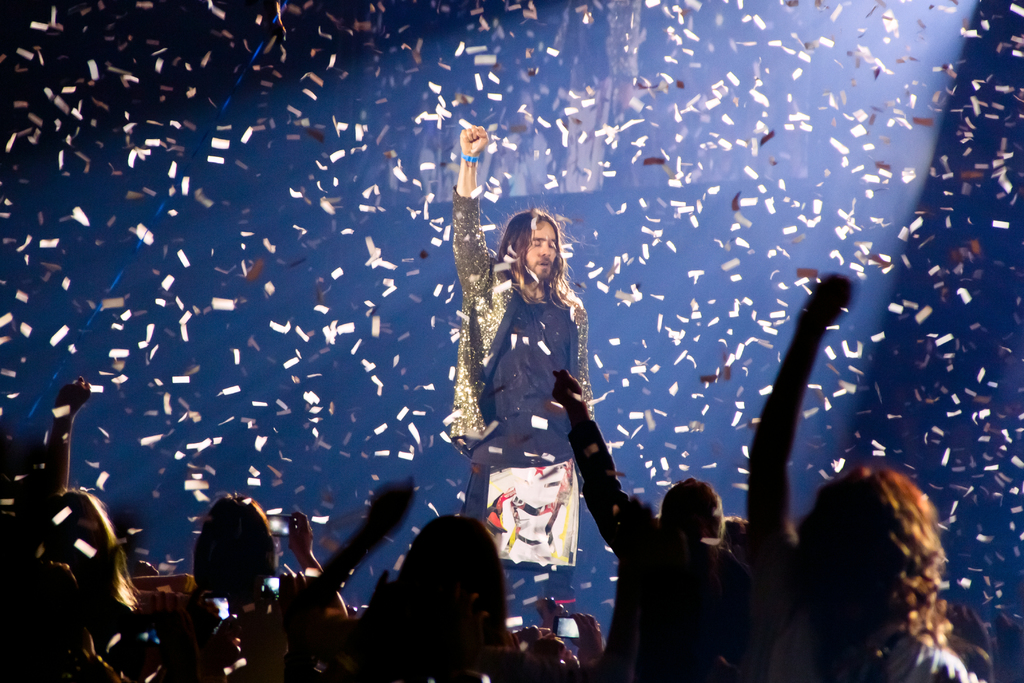Person: (0, 274, 1024, 683), (448, 124, 596, 643)
